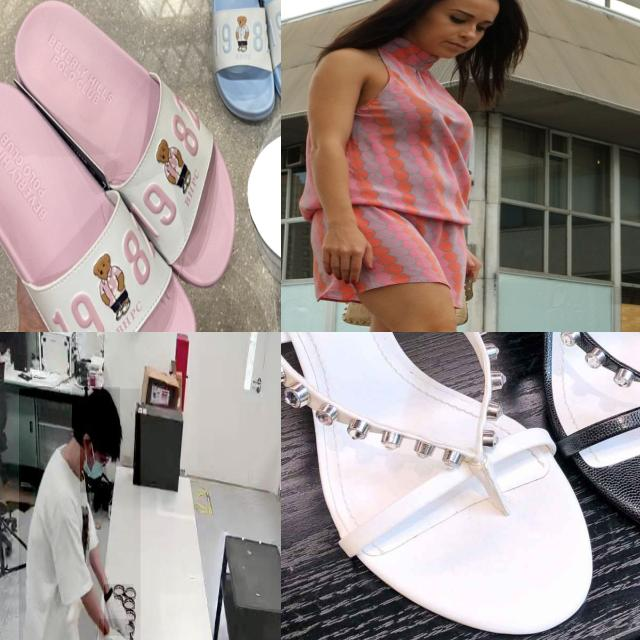Sandals: (281, 332, 612, 640), (0, 0, 249, 332), (484, 332, 640, 565), (193, 0, 281, 126)
face_mask: (80, 439, 106, 493)
hand_glove: (104, 584, 133, 636), (99, 619, 133, 640)
head_nohelmet: (72, 387, 120, 429)
person: (19, 388, 141, 640)
